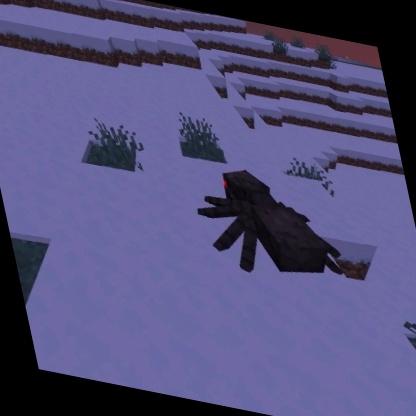spider: (181, 155, 353, 295)
